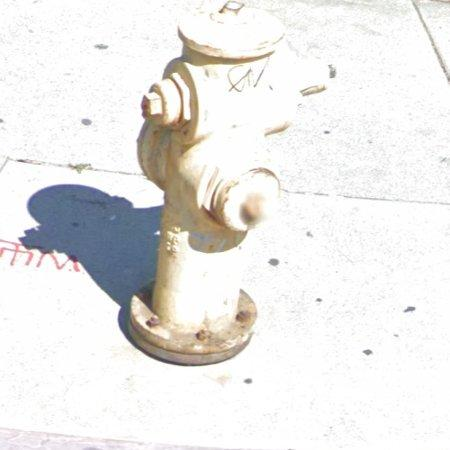a fire hydrant: (129, 1, 328, 365)
